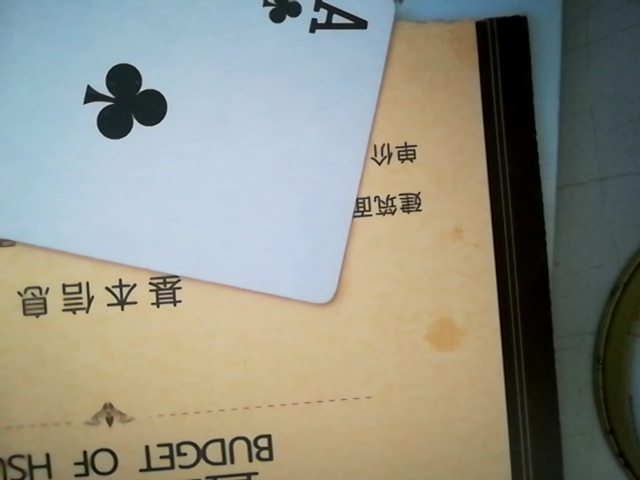mh a: (0, 0, 403, 302)
